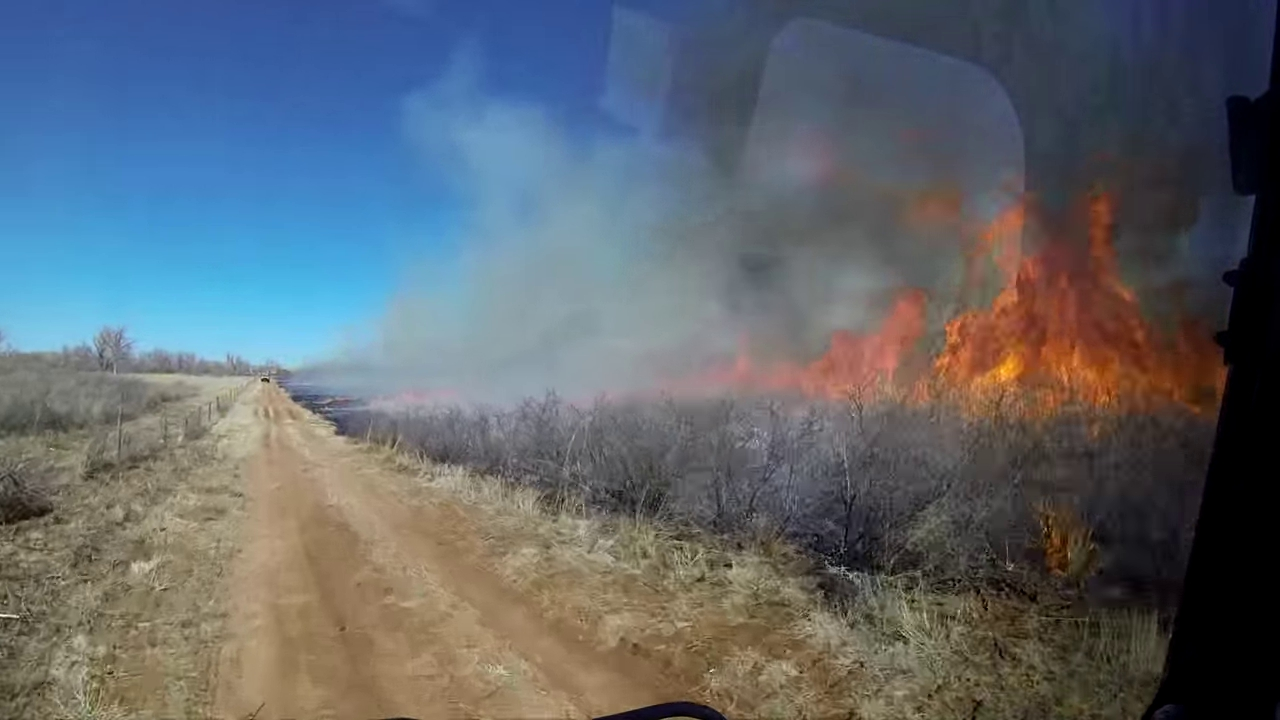forest_fire: (699, 193, 1224, 410)
